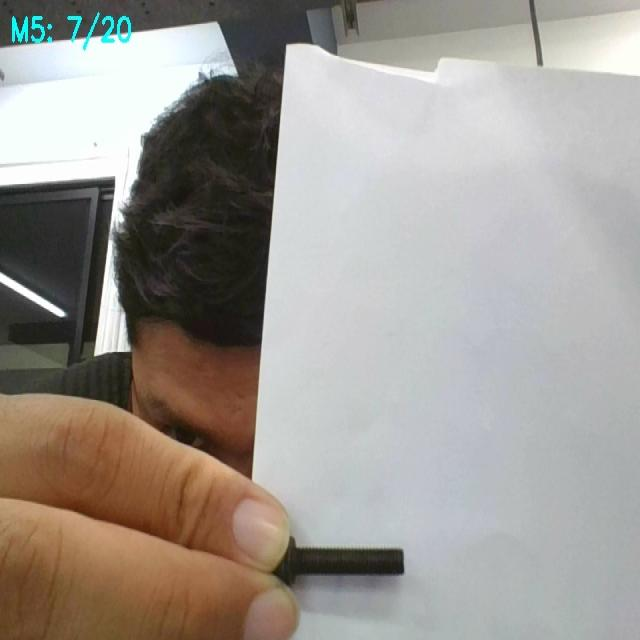vastago: (295, 547, 403, 575)
